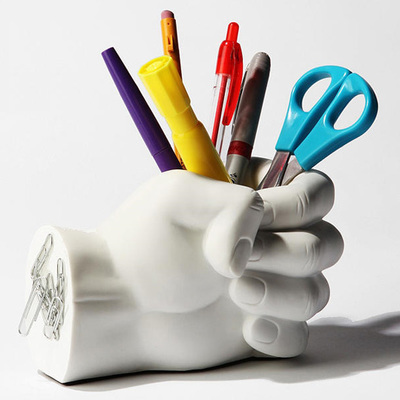closedhandfront: (104, 117, 352, 381)
